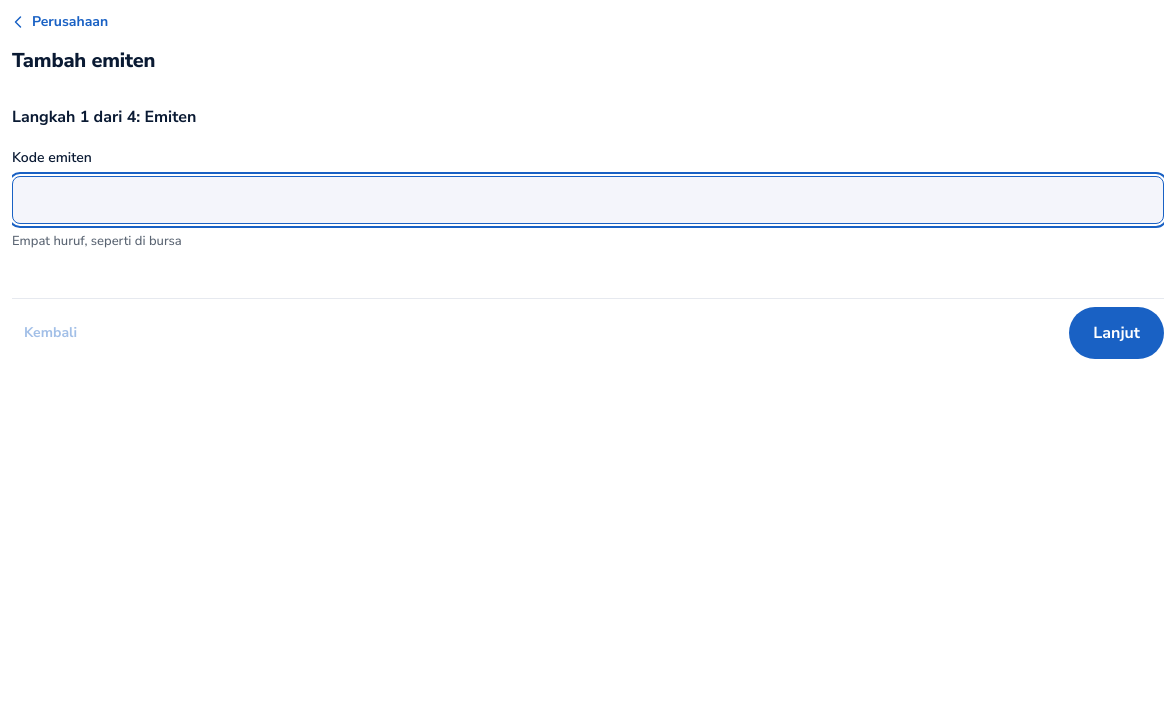
Test: Tambah emiten: wizard langkah (design.md §3.4, A6.2), kasus langkah dari AddScreen.test.tsx › step 1: ticker › upper-cases input and shows name, filing-derived industry code and proposed pack
The width and height of the screenshot is (1176, 720).
Type "aaaa" into the field labelled "Kode emiten".
click(588, 200); type("aaaa")  # box [12,176,1164,224]
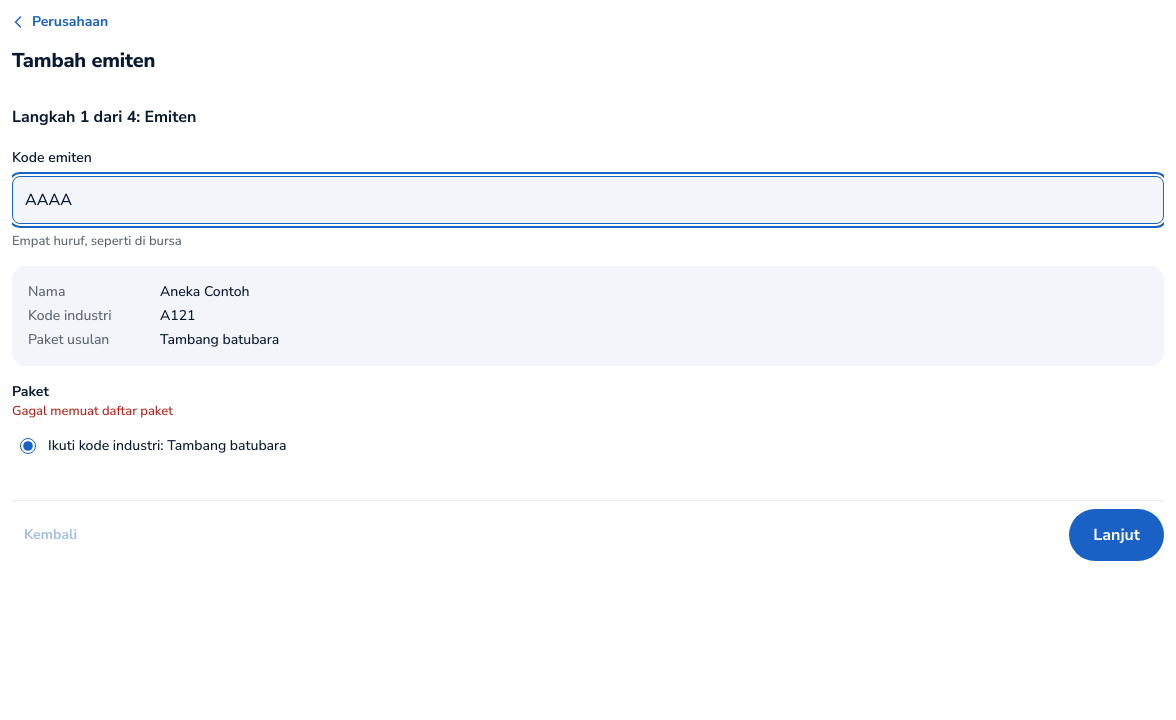
expect the text "Aneka Contoh" is shown: met, box [160,282,250,301]
expect the text "A121" is shown: met, box [160,306,196,325]
expect the text "Tambang batubara" is shown: met, box [160,330,279,349]
